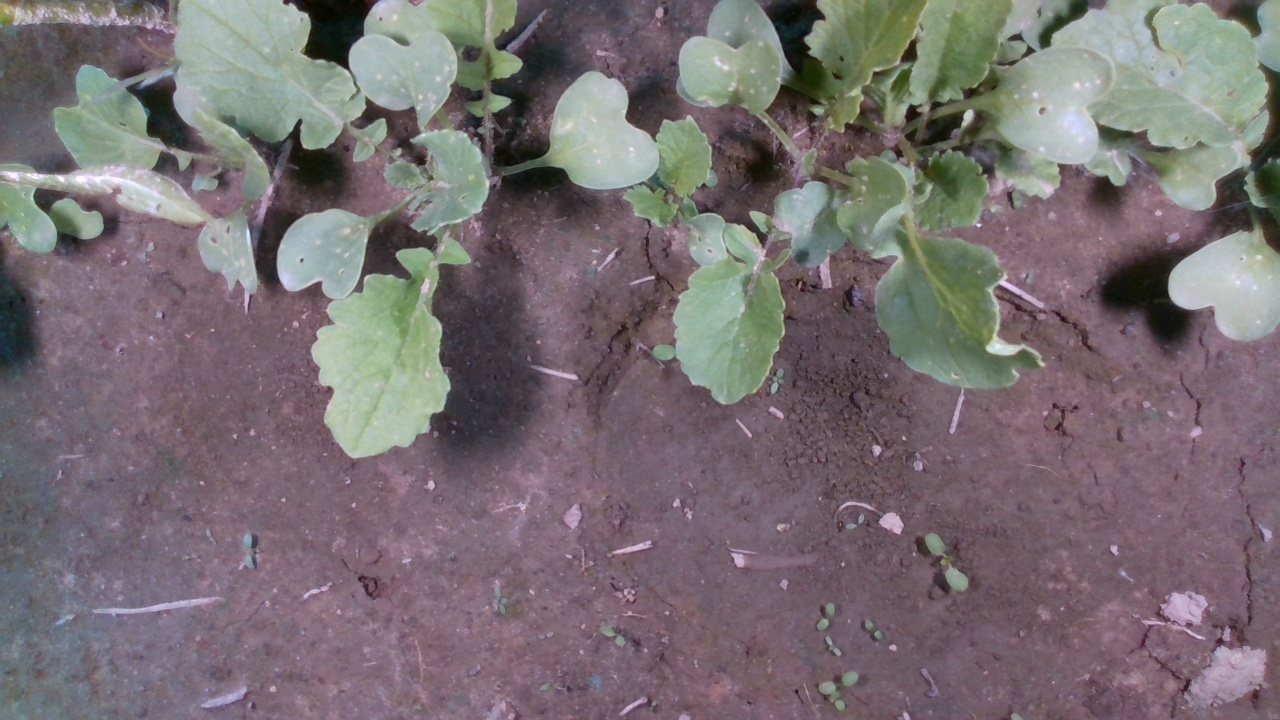weed: (925, 532, 969, 593), (597, 626, 626, 649), (240, 531, 255, 571), (815, 601, 835, 631), (490, 584, 508, 615), (823, 633, 841, 658), (863, 619, 883, 641), (844, 511, 864, 530)
